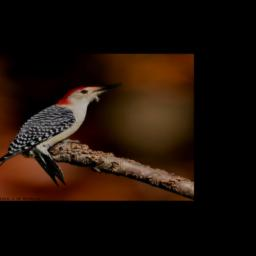Woodpecker: (0, 83, 124, 188)
